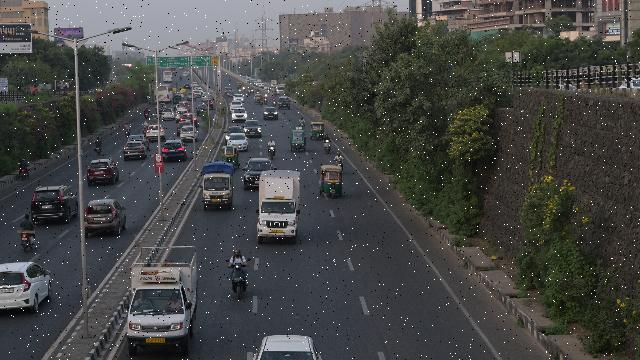With Helmet: (232, 248, 242, 256), (337, 152, 341, 156), (325, 134, 329, 138)
Without Helmet: (269, 138, 273, 142)
